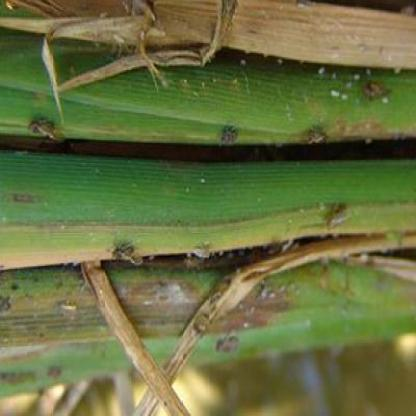brown-planthopper: (25, 116, 63, 144), (110, 242, 142, 264), (364, 80, 391, 100), (214, 124, 238, 146), (327, 206, 350, 228), (216, 336, 240, 355), (305, 125, 325, 145), (192, 244, 210, 260)
